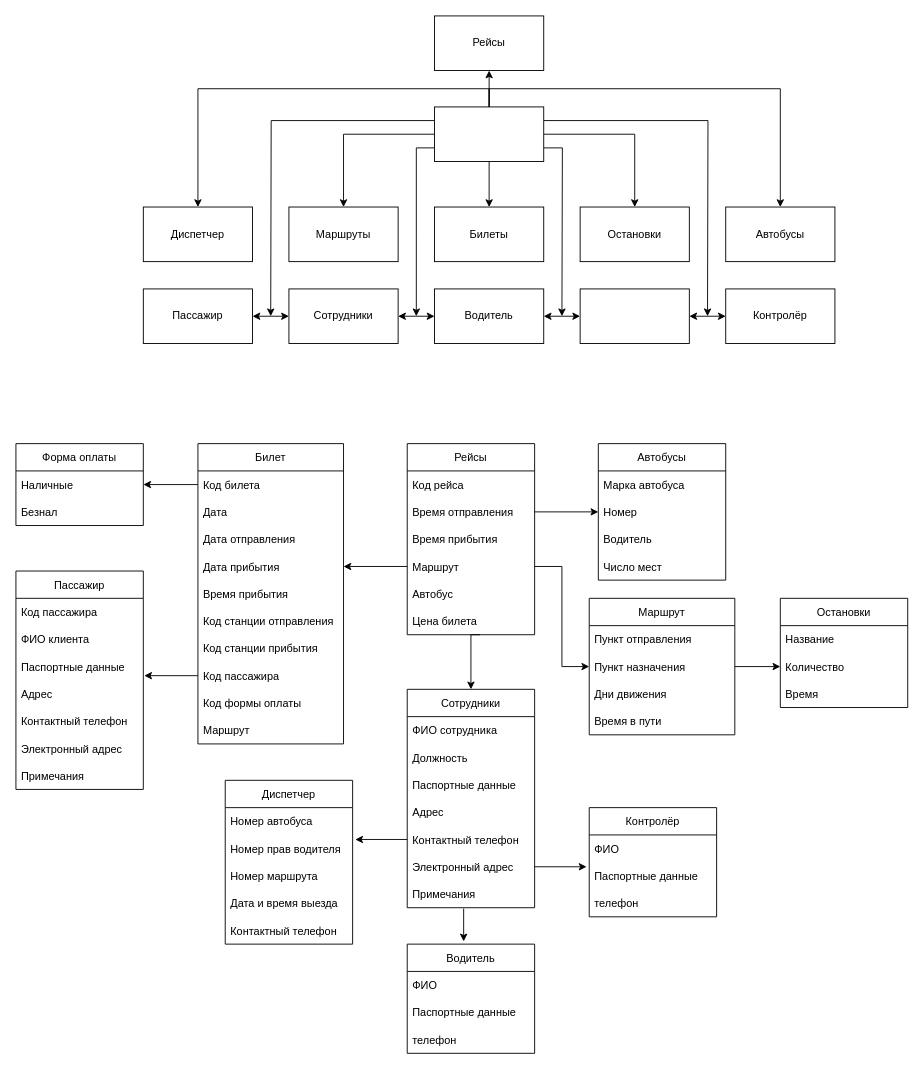
This 924x1069 diagram has some shape labels left out. The shapes that lost their labels are listed below. From the top down, each one's centre as x and y in pixels, then its label:
(x=489, y=134): Автовокзал
(x=634, y=316): Способы оплаты
